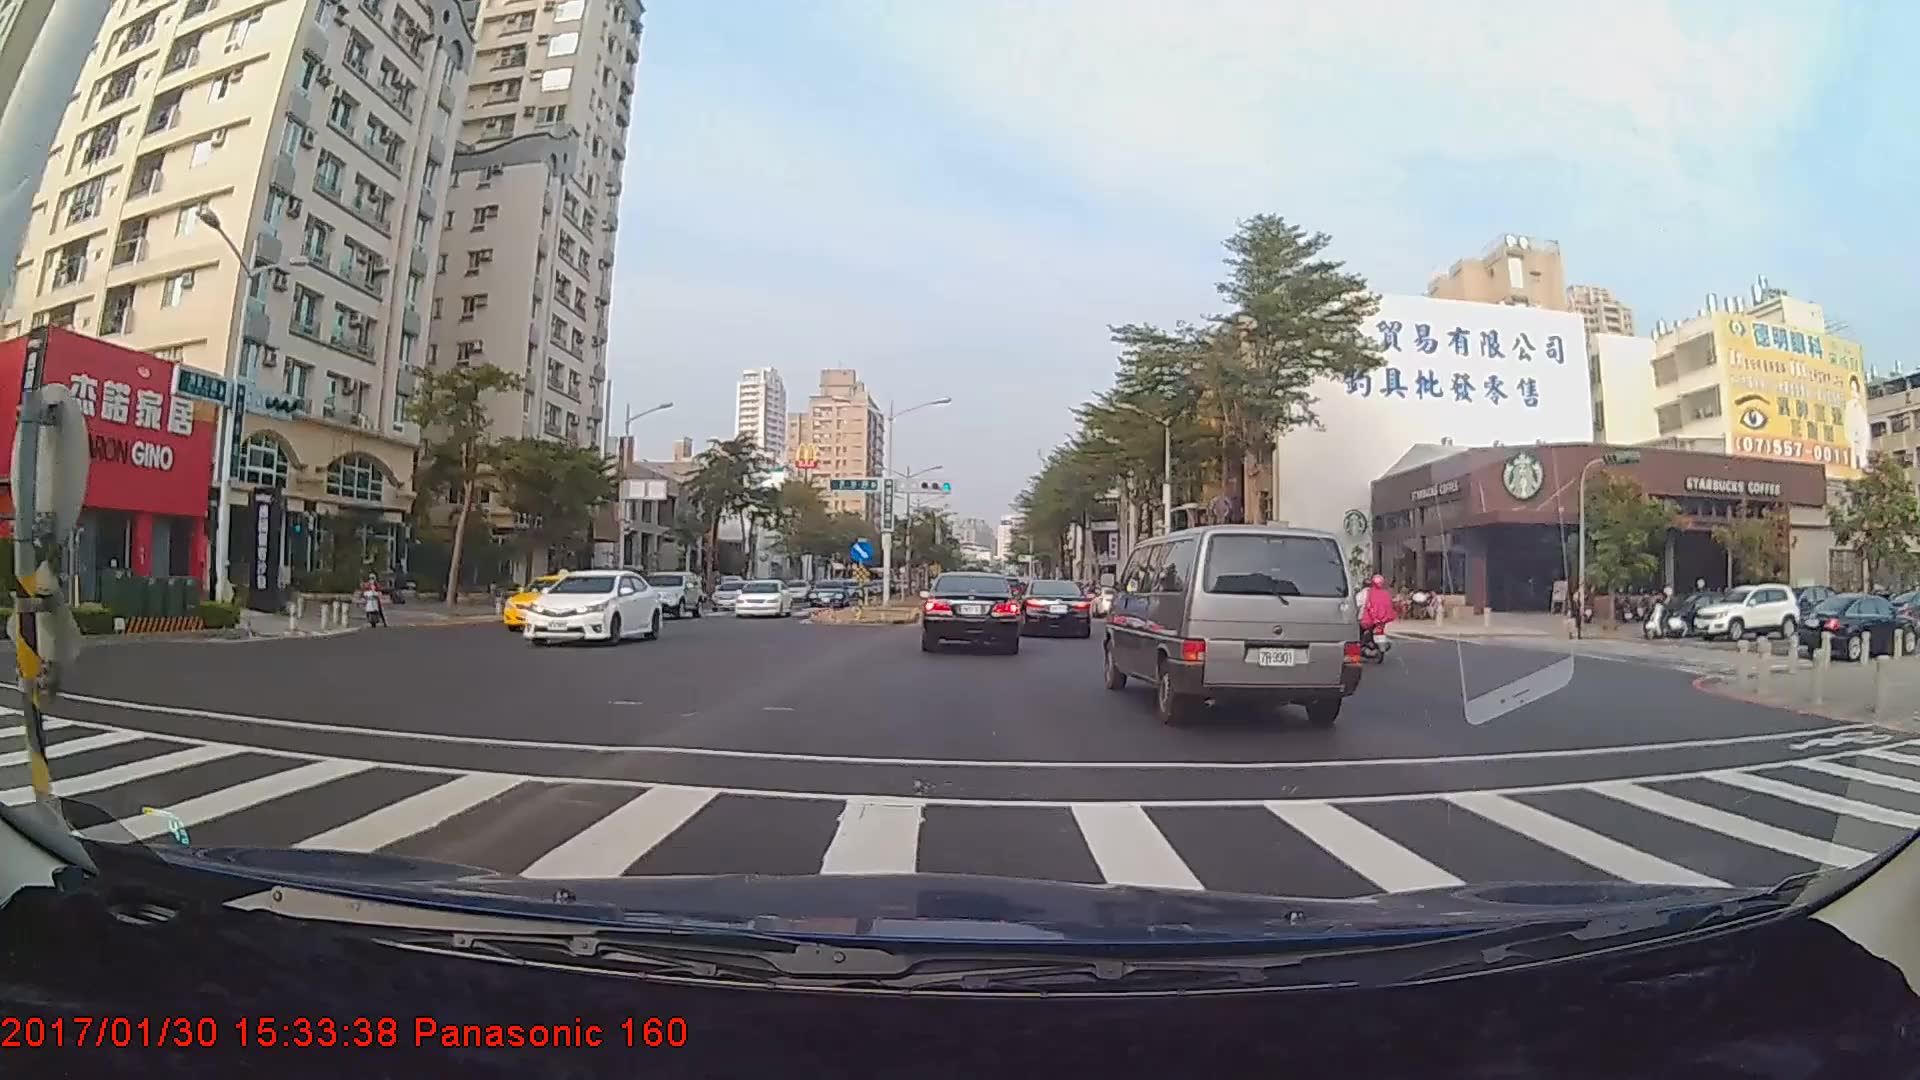pedestrian: (1564, 581, 1588, 645)
rider: (1643, 579, 1689, 641)
vehicle: (1106, 519, 1354, 726), (520, 568, 663, 646), (919, 569, 1022, 654), (1797, 590, 1915, 658), (498, 573, 603, 635), (1691, 585, 1804, 641), (1019, 578, 1093, 639), (636, 571, 701, 620), (732, 580, 791, 619), (809, 576, 850, 607)
